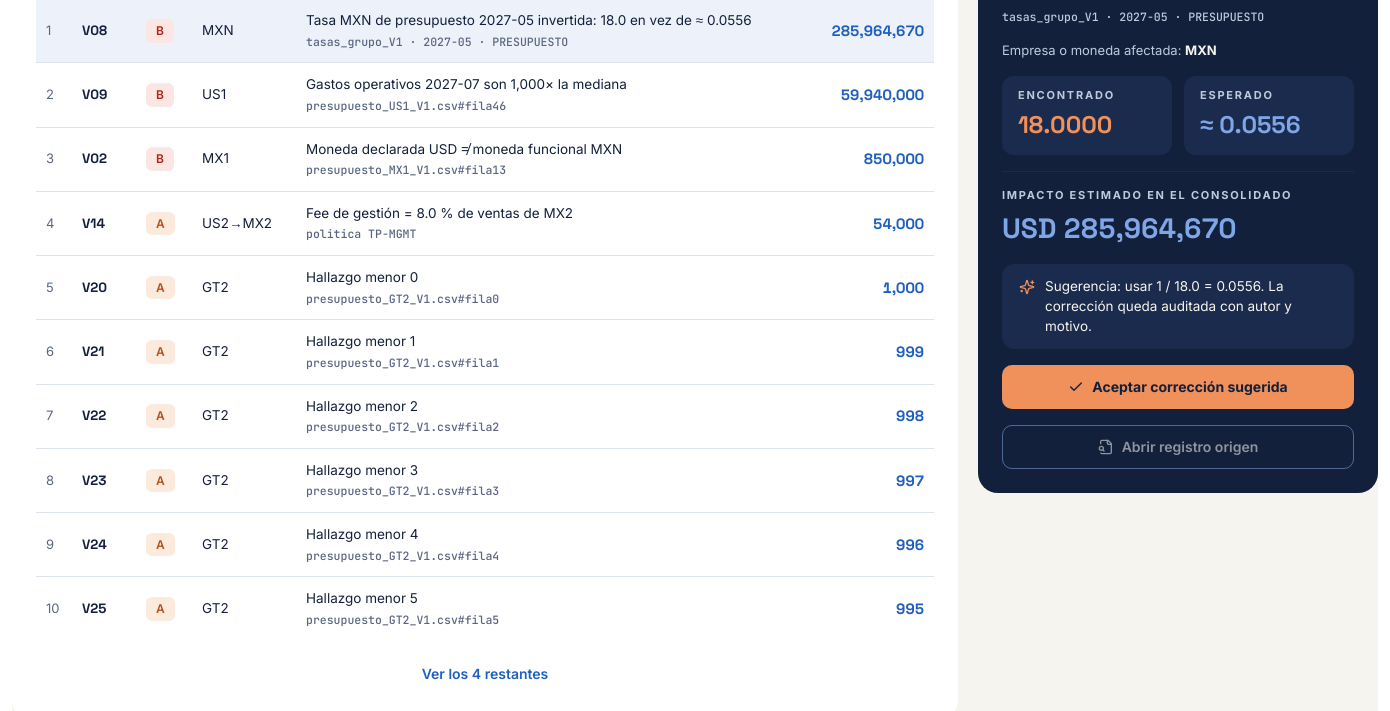
Test case: ValidationPage › muestra el error de la mutación en la interfaz
The image size is (1390, 711).
(page scrolled)
Click the button "Aceptar corrección sugerida".
click(1178, 387)  # box [1002,365,1354,409]
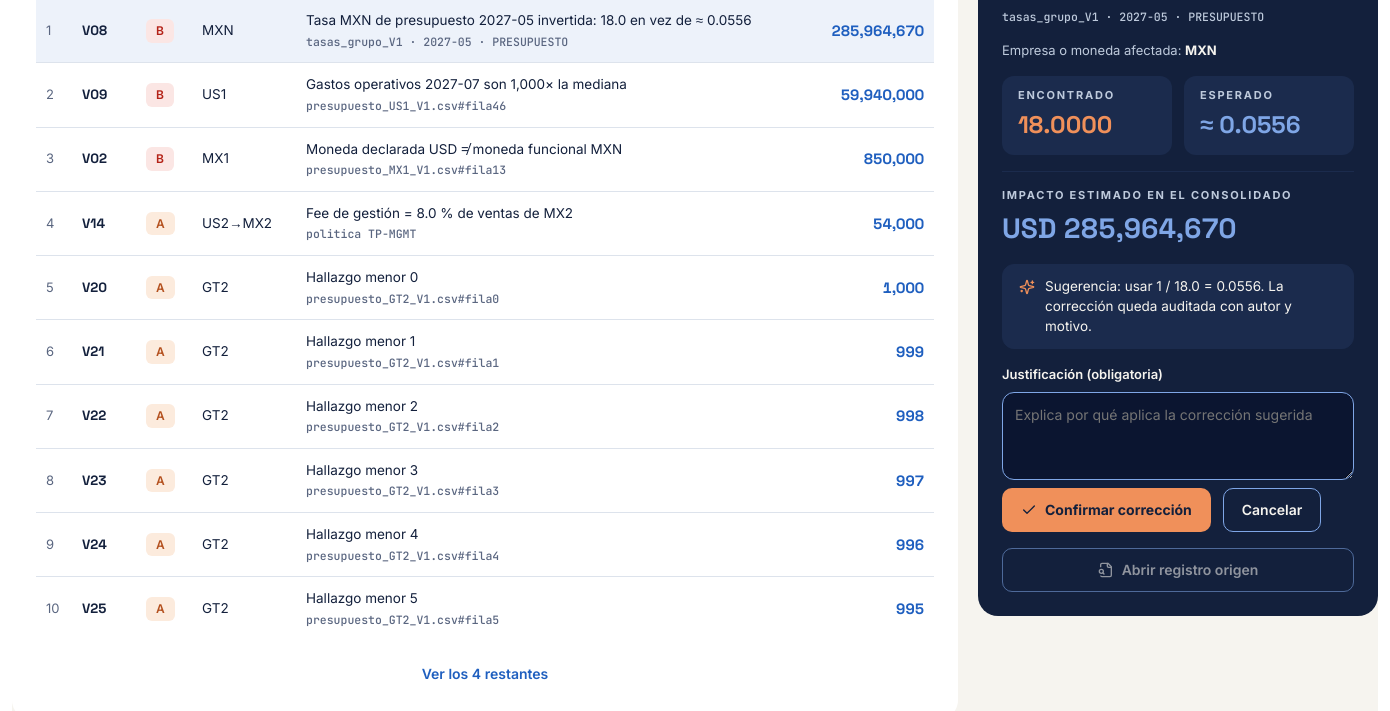
Type "Motivo" into the text box labelled "Justificación (obligatoria)".
click(1178, 436); type("Motivo")  # box [1002,392,1354,480]
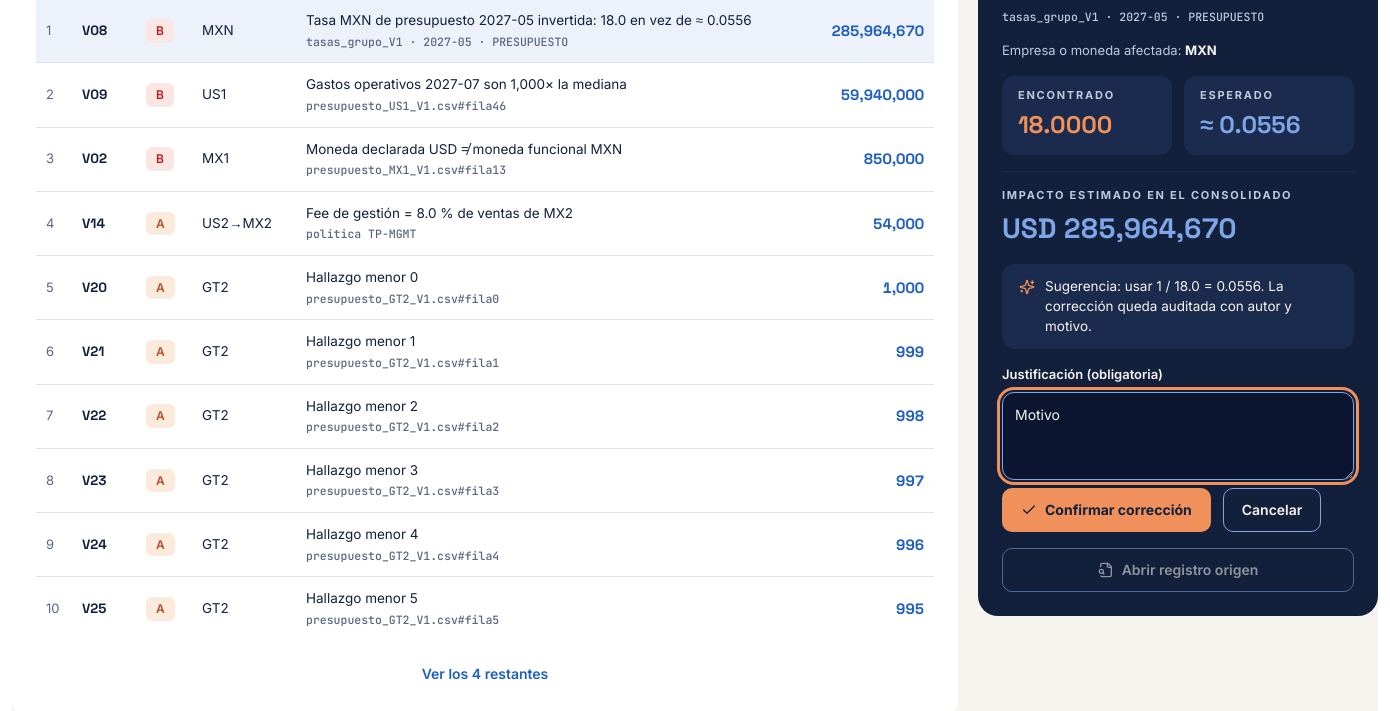
Click the button "Confirmar corrección".
click(1106, 510)  # box [1002,488,1211,532]
(page scrolled)
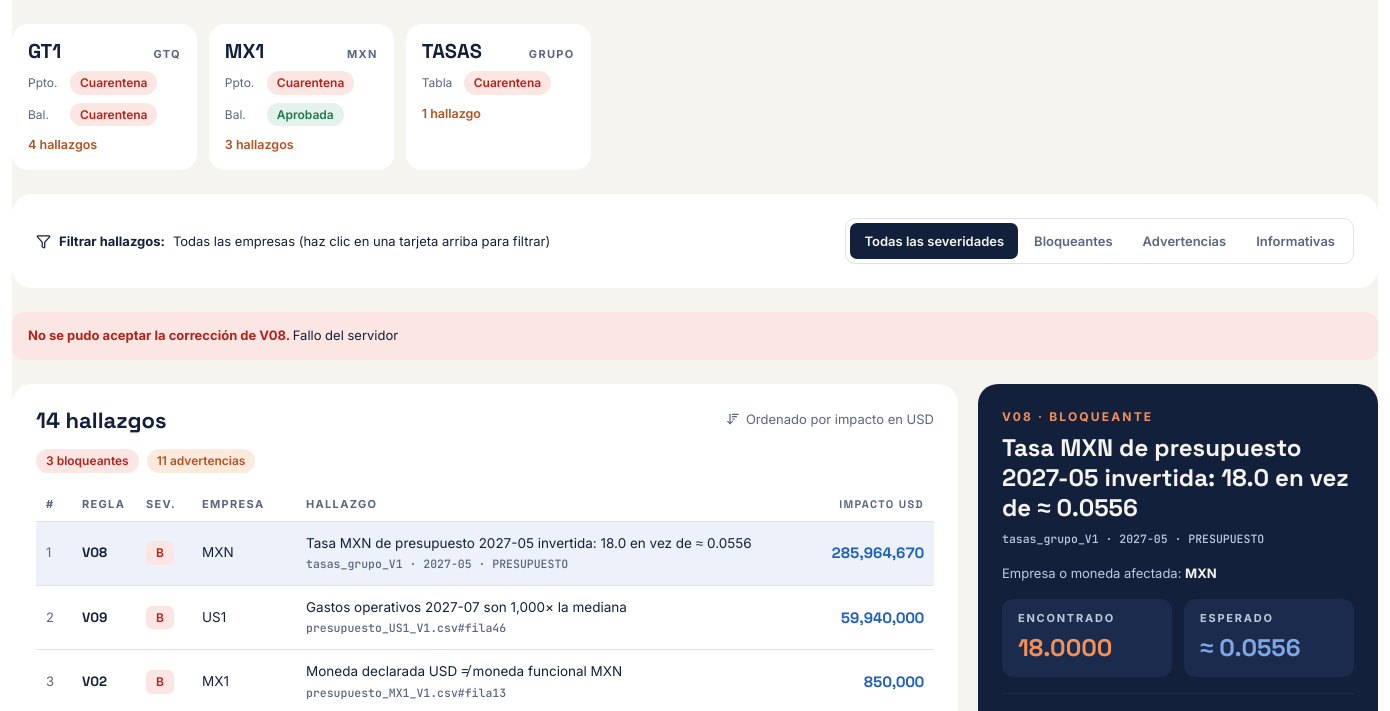
expect the text "Fallo del servidor" is shown: met, box [293,327,398,343]
